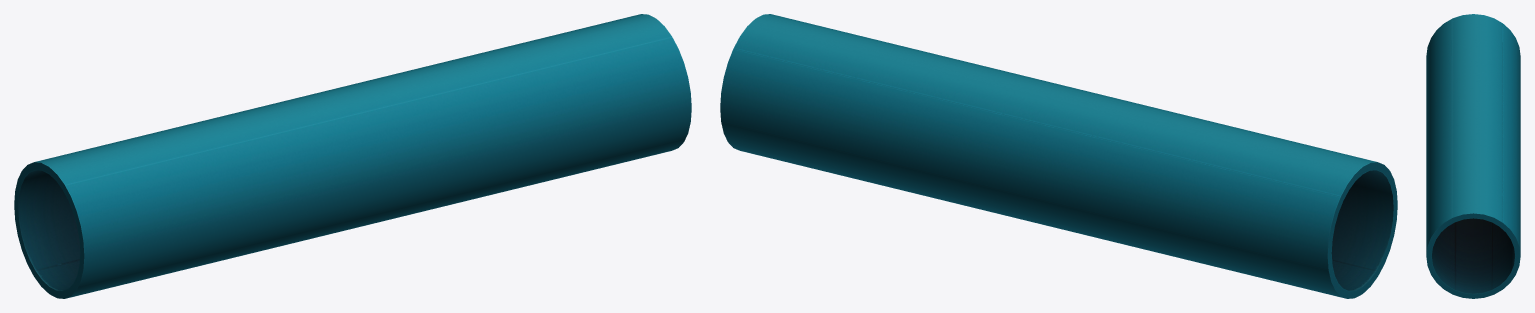
The model's file is guanzi.obj.
3 renders of one model, left to right at view 1: azimuth 30°, elevation 25°; view 2: azimuth 150°, elevation 25°; view 3: azimuth 270°, elevation 25°, orthographic. The views are drawn at different scales.
Visible parts, largest first — view 1: Circle01; view 2: Circle01; view 3: Circle01.
Boxes of the visible parts, x1,y1,x2,y2 form: Circle01: (14,14,691,298); Circle01: (720,14,1397,298); Circle01: (1426,14,1520,298).
Bounding box in the file's own units: 300 × 60 × 60.
